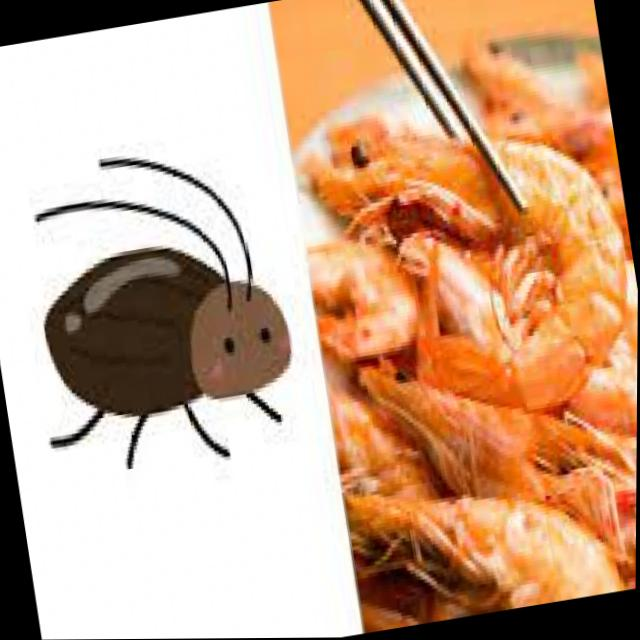Cockroach: (4, 122, 314, 491)
